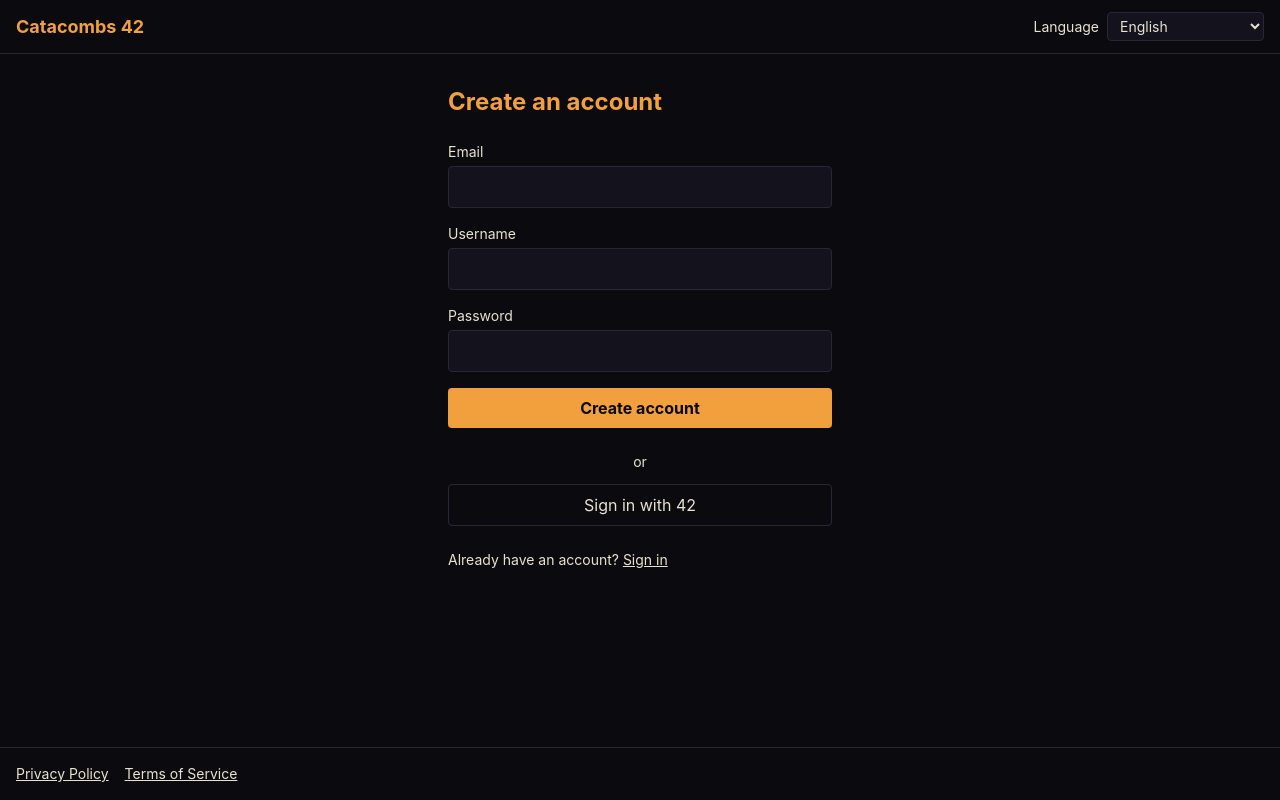
Test: Signup › falha de rede vira erro geral
Expected: the heading "Create an account" is shown, [448,87,662,116]
In the field labelled "Email": (640, 187) [448,166,832,208], type "nova@example.com"
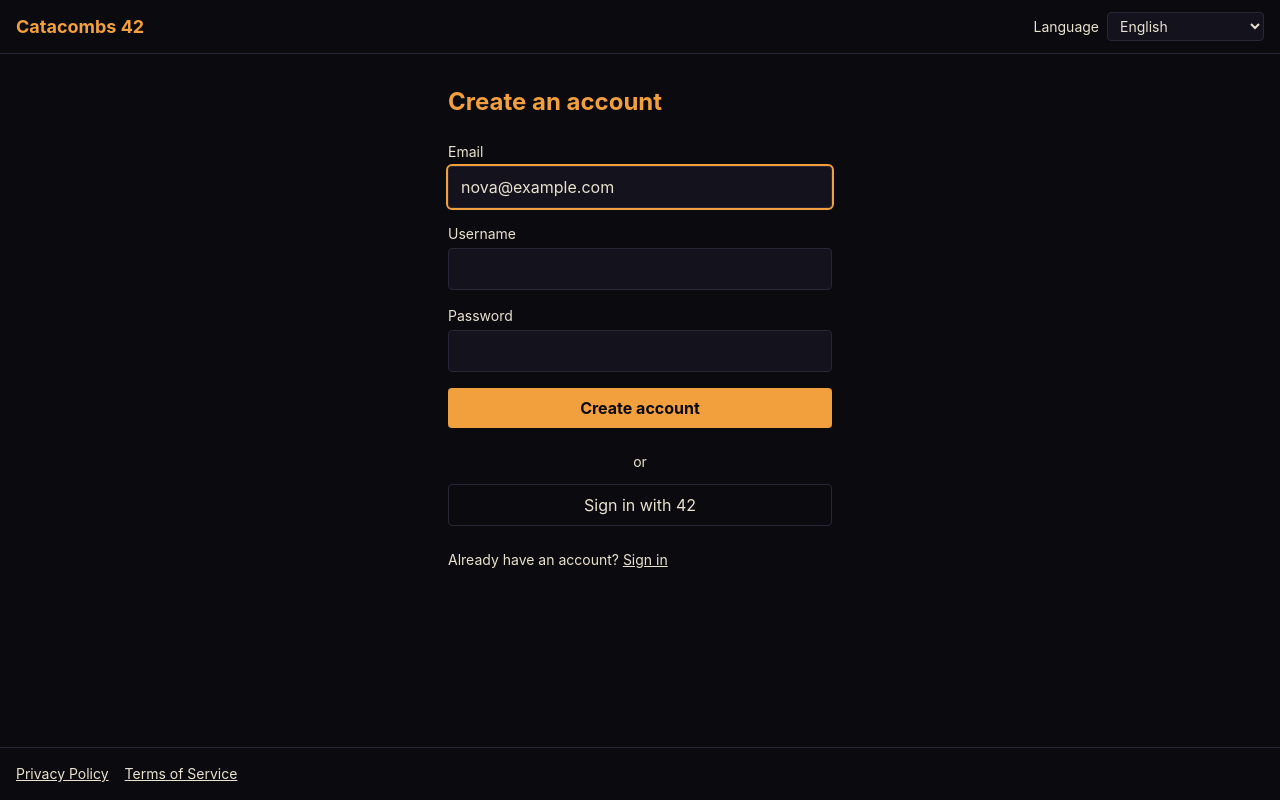
In the field labelled "Username": (640, 269) [448,248,832,290], type "nova_42"
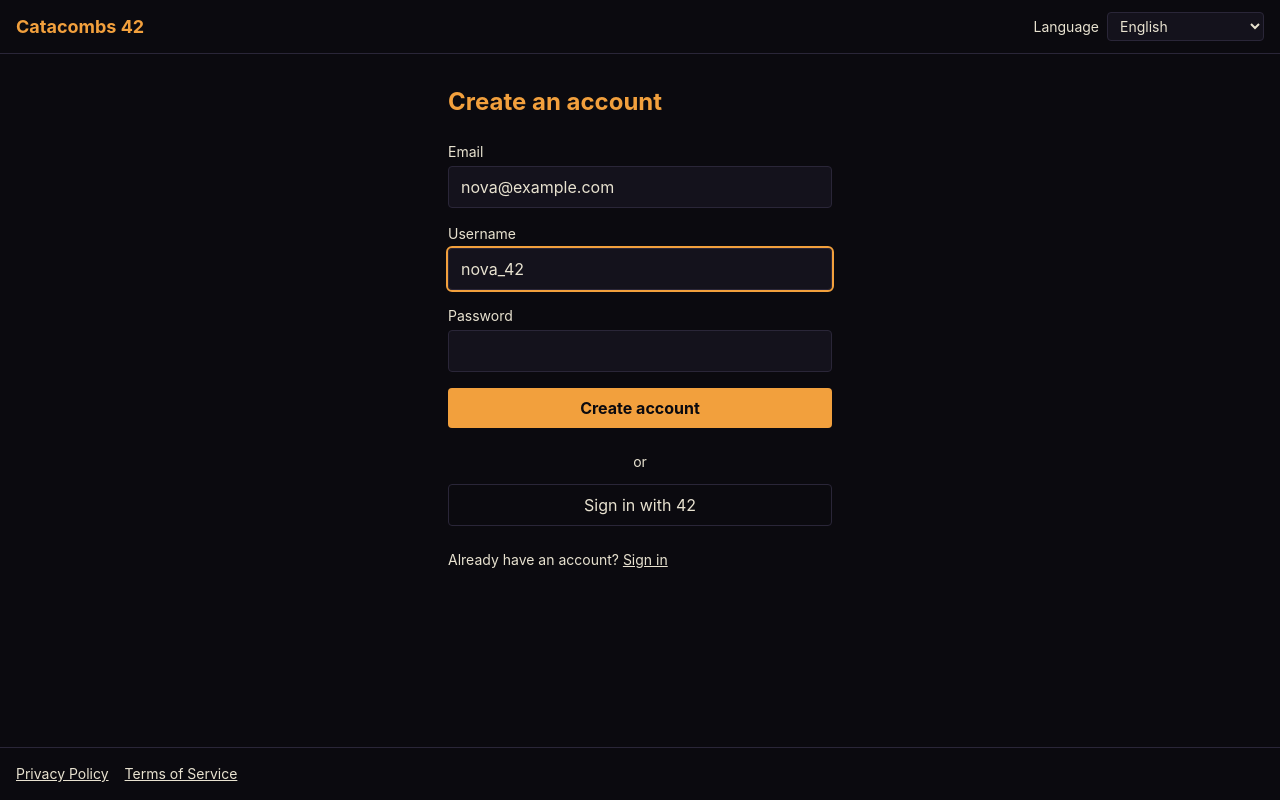
In the password field labelled "Password": (640, 351) [448,330,832,372], type "osDda42x"
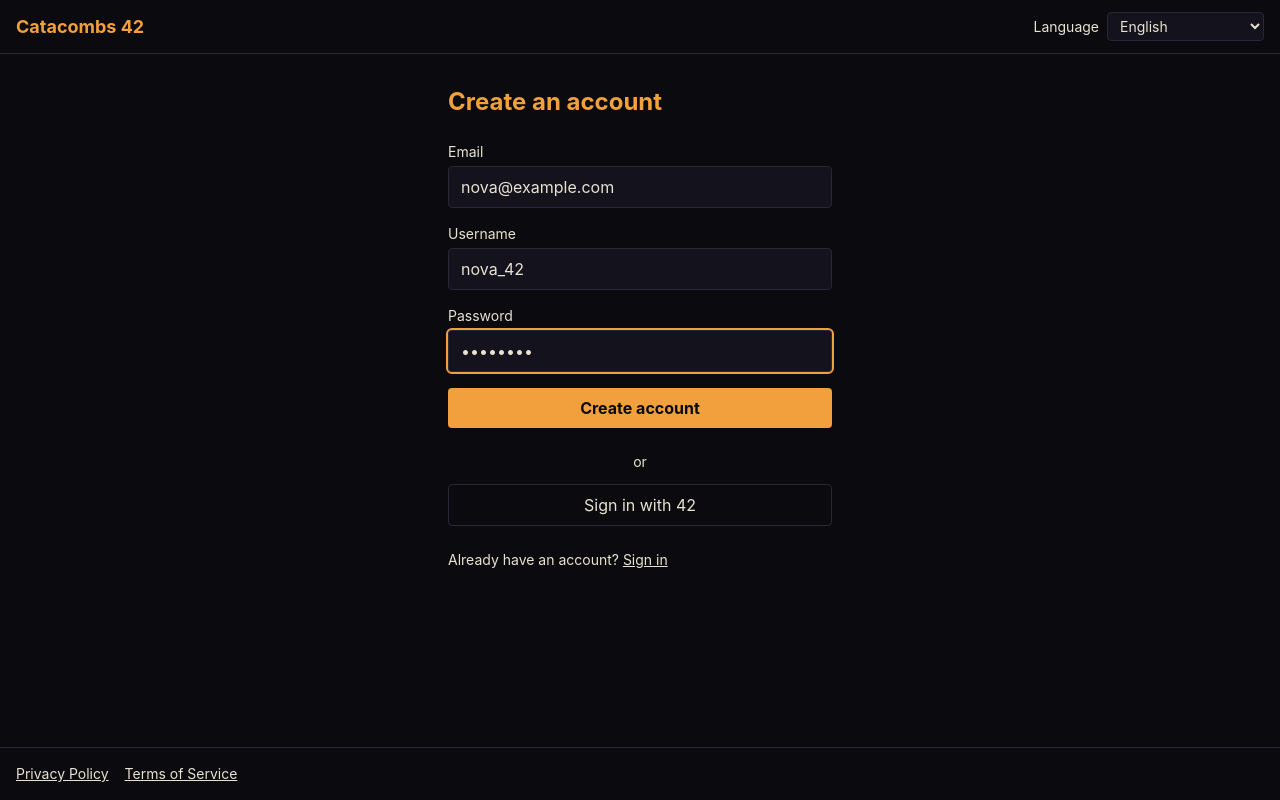
Click the button "Create account": (640, 408) [448,388,832,428]
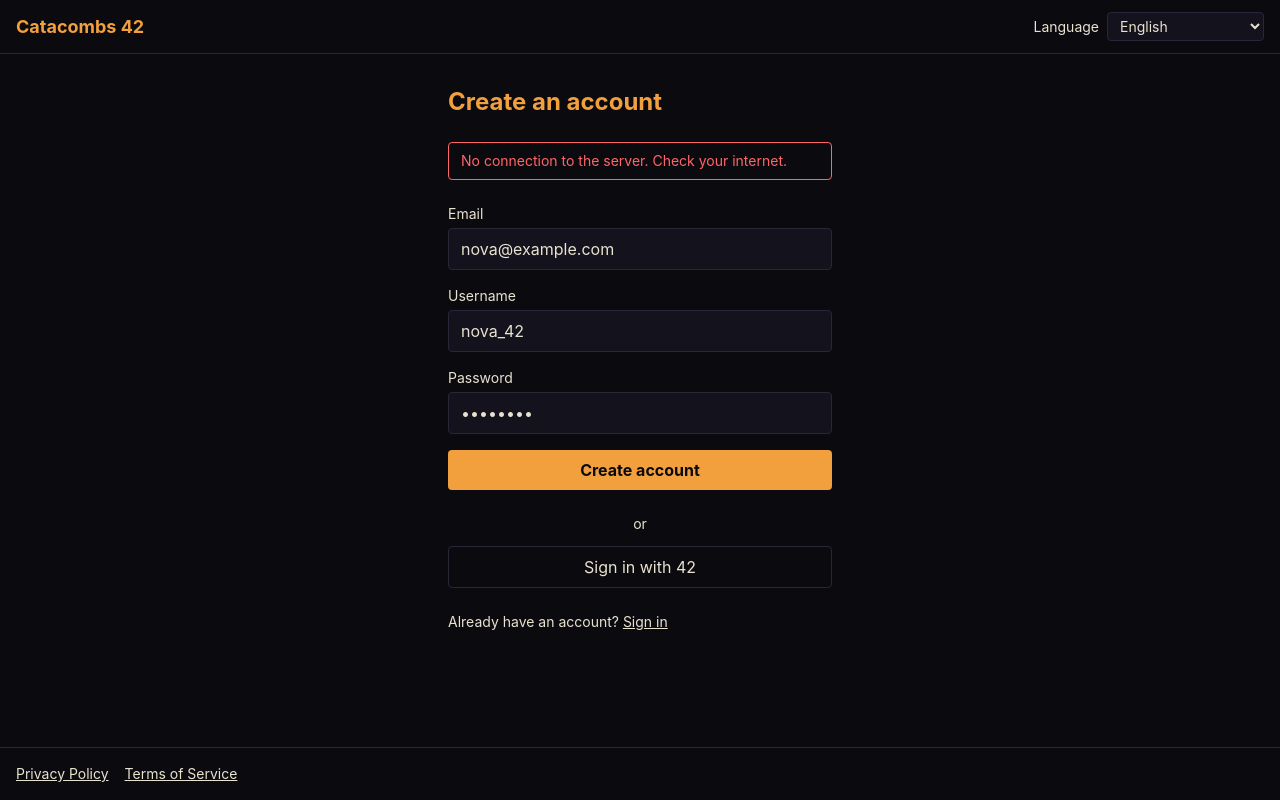
Expected: the message shows "No connection to the server.", [461,152,787,169]
